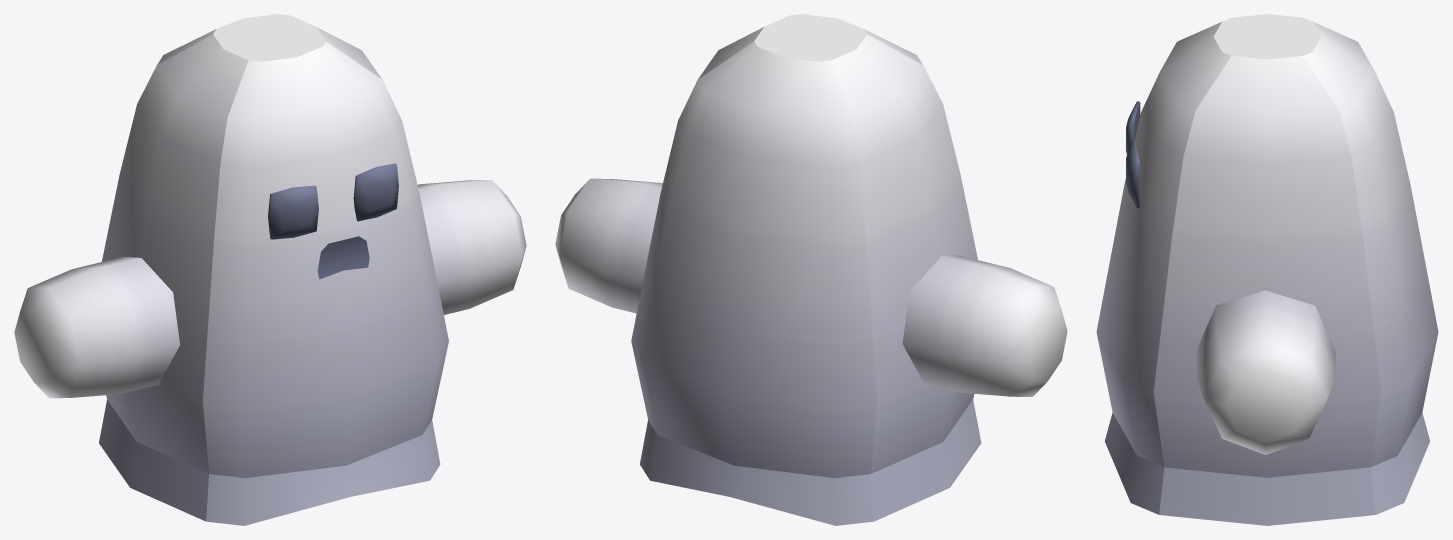
The model's file is grave.character_ghost.glb.
The picture shows the model from 3 angles, left to right: view 1: azimuth 30°, elevation 25°; view 2: azimuth 150°, elevation 25°; view 3: azimuth 270°, elevation 25°; orthographic projection.
Visible parts, largest first — view 1: torso, arm-right, arm-left; view 2: torso, arm-right, arm-left; view 3: torso, arm-left.
Part boxes in pixels (left/top/right/bottom): torso: left=99, top=14, right=448, bottom=525; arm-right: left=14, top=256, right=179, bottom=398; arm-left: left=417, top=180, right=526, bottom=314; torso: left=631, top=14, right=981, bottom=525; arm-right: left=902, top=255, right=1067, bottom=396; arm-left: left=555, top=178, right=662, bottom=313; torso: left=1096, top=14, right=1438, bottom=525; arm-left: left=1195, top=290, right=1335, bottom=454.
Bounding box in the file's own units: 1.88 × 1.58 × 1.17.
1 material, 1 textured.
